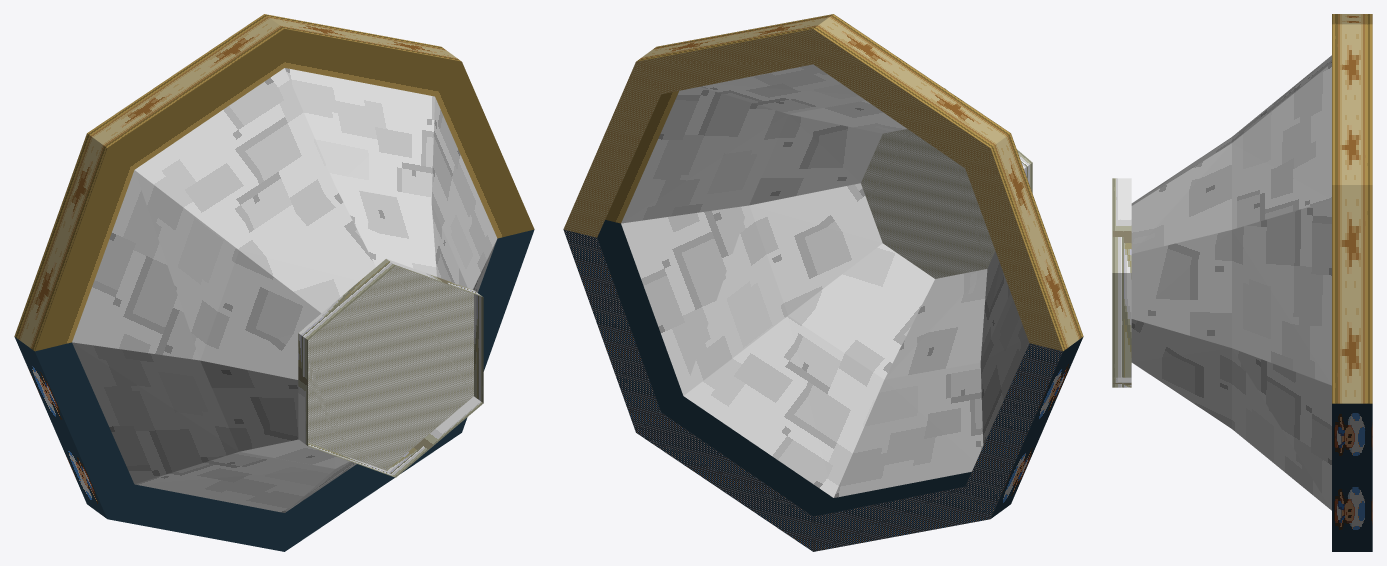
Rendered from merlinroof.obj.
The picture shows the model from 3 angles, left to right: view 1: azimuth 30°, elevation 25°; view 2: azimuth 150°, elevation 25°; view 3: azimuth 270°, elevation 25°; orthographic projection.
Visible parts, largest first — view 1: Mesh1 Group_1_1 Model, Mesh3 Model, Mesh4 Model, Mesh2 Group_1_2 Model; view 2: Mesh2 Group_1_2 Model, Mesh3 Model, Mesh1 Group_1_1 Model, Mesh4 Model; view 3: Mesh1 Group_1_1 Model, Mesh3 Model, Mesh2 Group_1_2 Model, Mesh4 Model.
Part boxes in pixels (left/top/right/bottom): Mesh1 Group_1_1 Model: left=72, top=68, right=497, bottom=379; Mesh3 Model: left=14, top=14, right=534, bottom=551; Mesh4 Model: left=298, top=258, right=483, bottom=477; Mesh2 Group_1_2 Model: left=72, top=240, right=496, bottom=512; Mesh2 Group_1_2 Model: left=621, top=183, right=1029, bottom=497; Mesh3 Model: left=563, top=14, right=1083, bottom=551; Mesh1 Group_1_1 Model: left=621, top=64, right=906, bottom=223; Mesh4 Model: left=861, top=88, right=1032, bottom=278; Mesh1 Group_1_1 Model: left=1131, top=55, right=1331, bottom=385; Mesh3 Model: left=1332, top=14, right=1372, bottom=551; Mesh2 Group_1_2 Model: left=1131, top=319, right=1331, bottom=510; Mesh4 Model: left=1112, top=178, right=1131, bottom=387.
Bounding box in the file's own units: 34.04 × 34.04 × 15.53.
